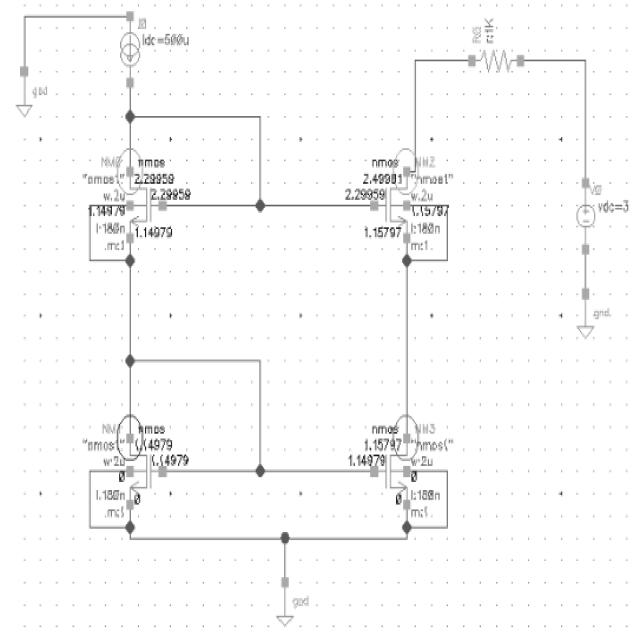gnd: (571, 284, 597, 347), (270, 576, 296, 631), (11, 64, 34, 120)
idc: (113, 13, 141, 90)
nmos: (122, 430, 171, 518), (122, 166, 172, 249), (369, 433, 414, 517), (369, 168, 414, 245)
res: (462, 42, 533, 90)
vdc: (573, 174, 596, 258)
